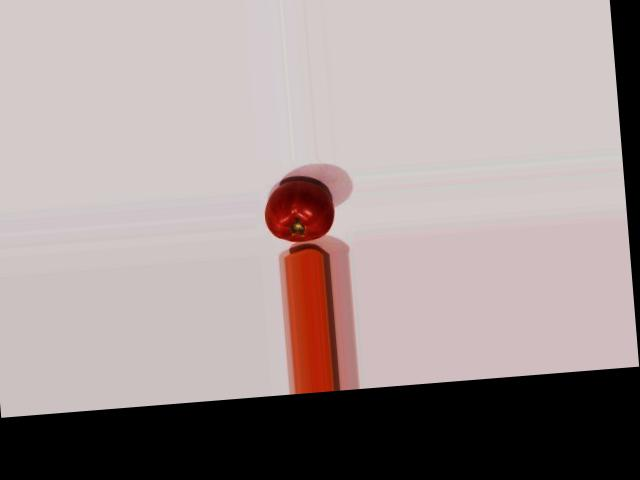tomato: (262, 178, 335, 243)
